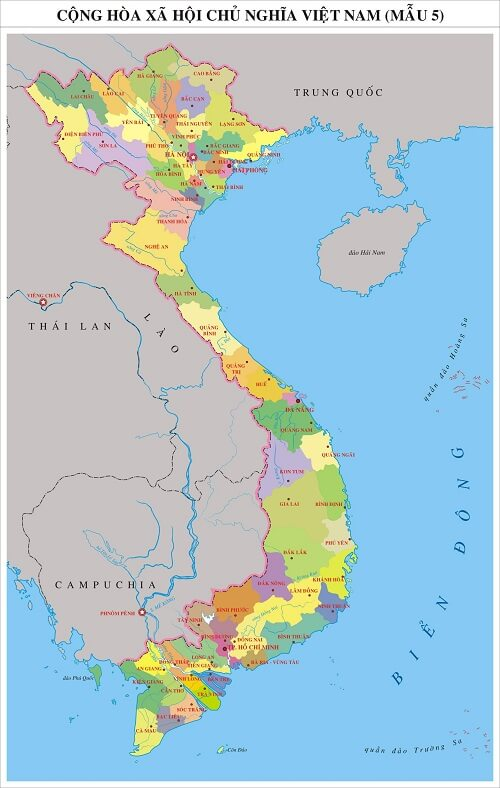Island: (363, 707, 494, 786), (420, 314, 488, 413)
